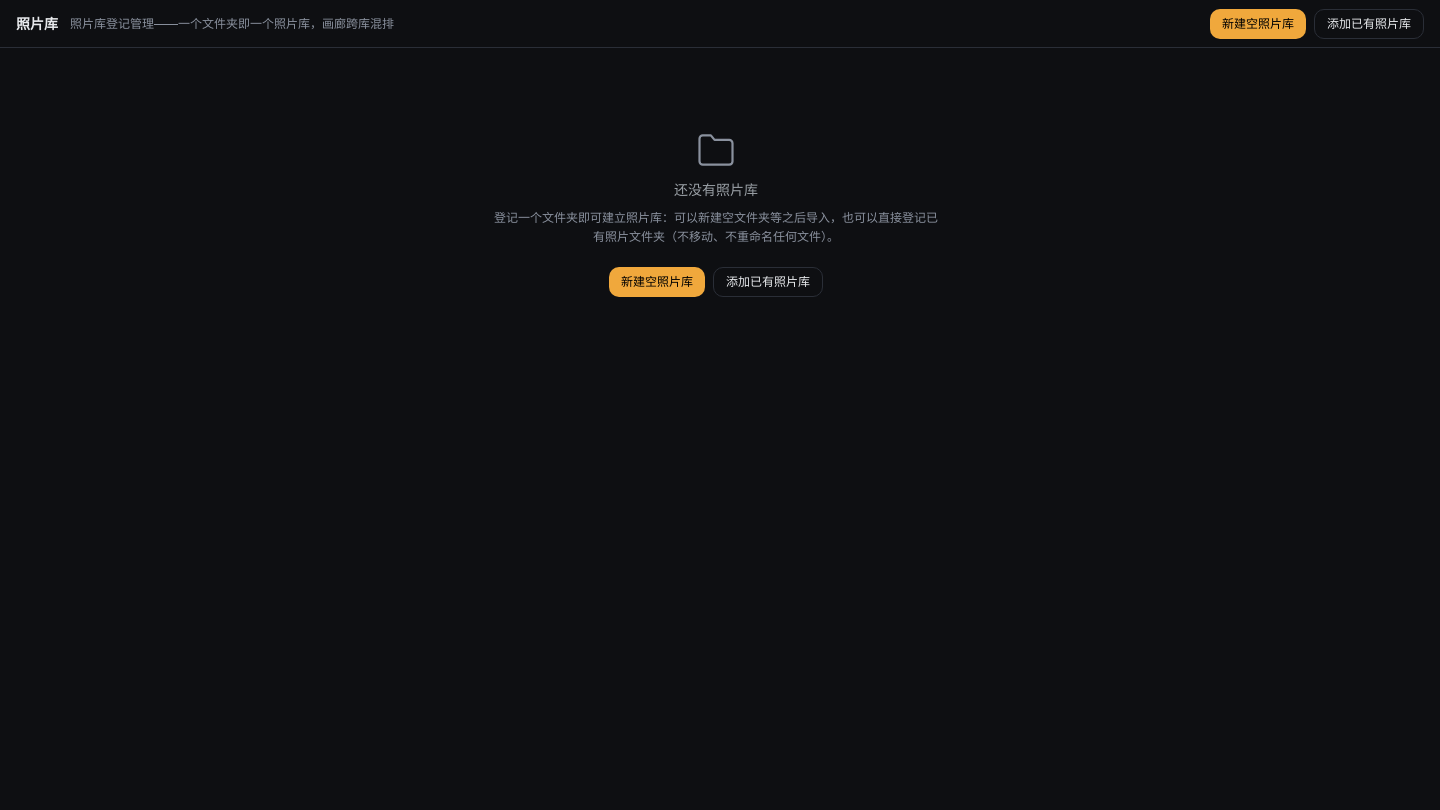
StoragePage 登记入口（photo_library_create，单一按钮 + 对话框内模式二选一） › 新建照片库：默认新建模式 → photoLibraryCreate(name, root, false) → 刷新列表
Expected: the element with test id "storage-empty" is shown, [494,128,938,296]
Click the button with test id "storage-create-library" at (1258, 24), box [1210,8,1306,38]
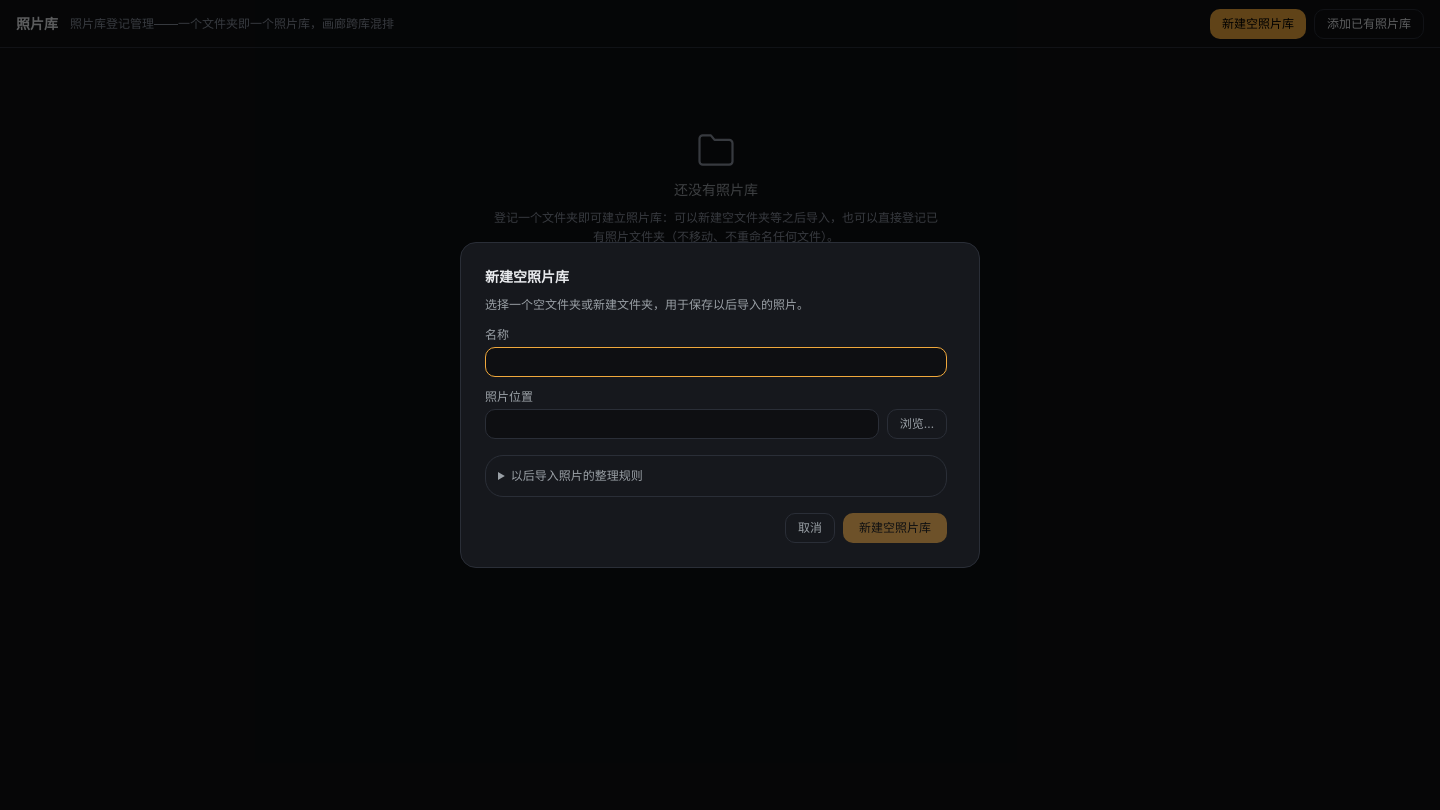
Expected: the dialog with test id "storage-create-dialog" is shown
Type "主照片库" into the field with test id "storage-create-name" at (716, 362), box [485,347,947,377]
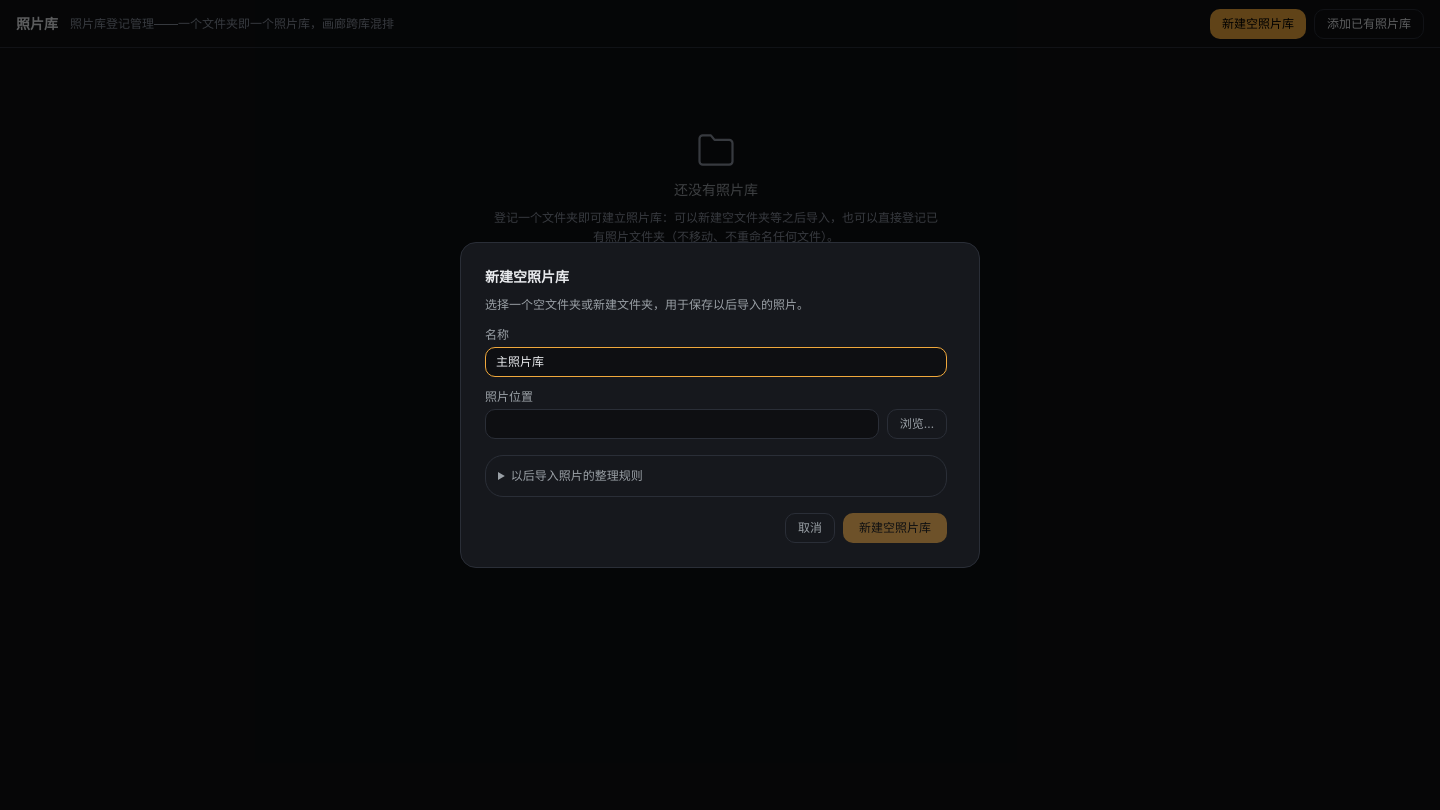
Type "I:\\Photos" into the field with test id "storage-create-root" at (682, 424), box [485,409,879,439]
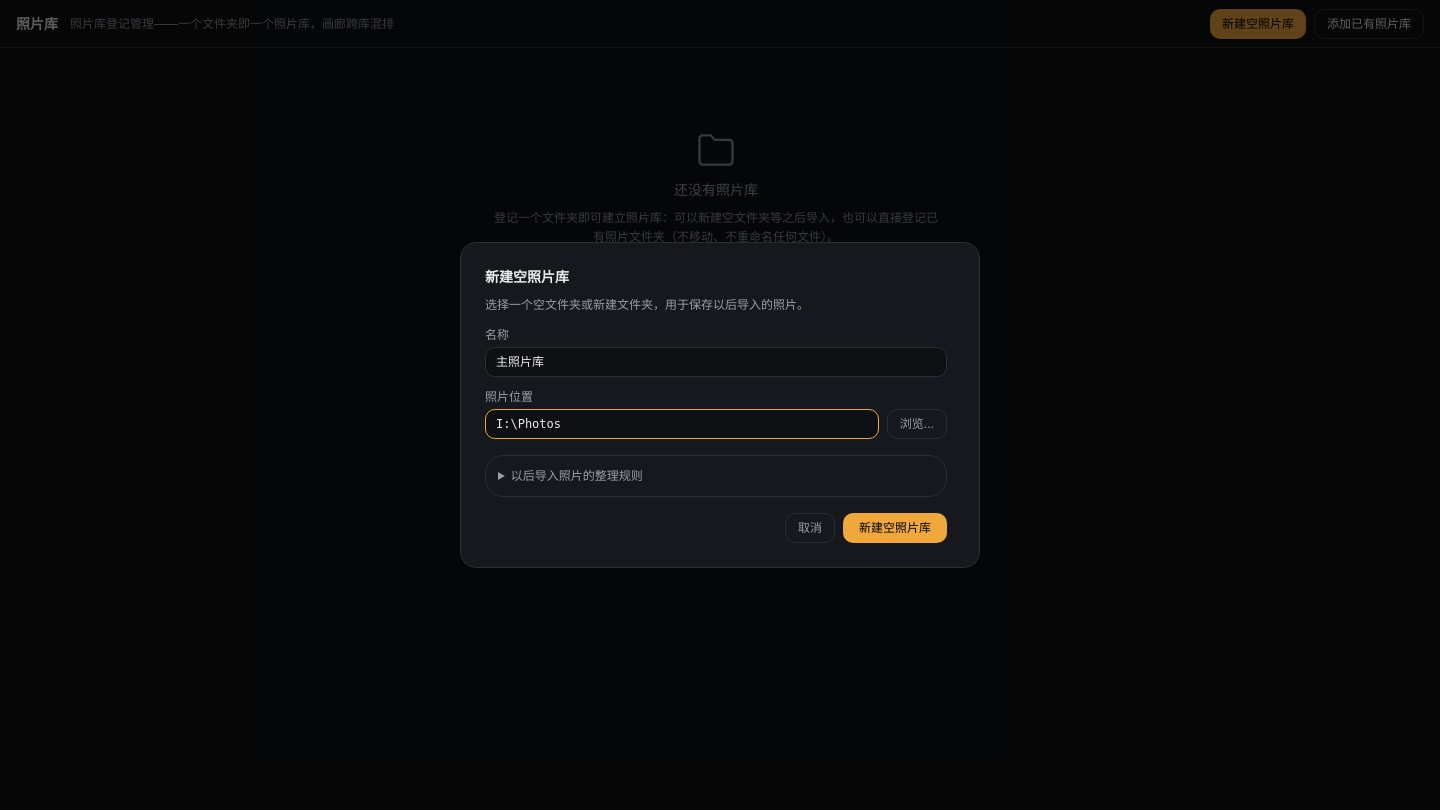
Click the button with test id "storage-create-confirm" at (895, 528), box [843,513,947,543]
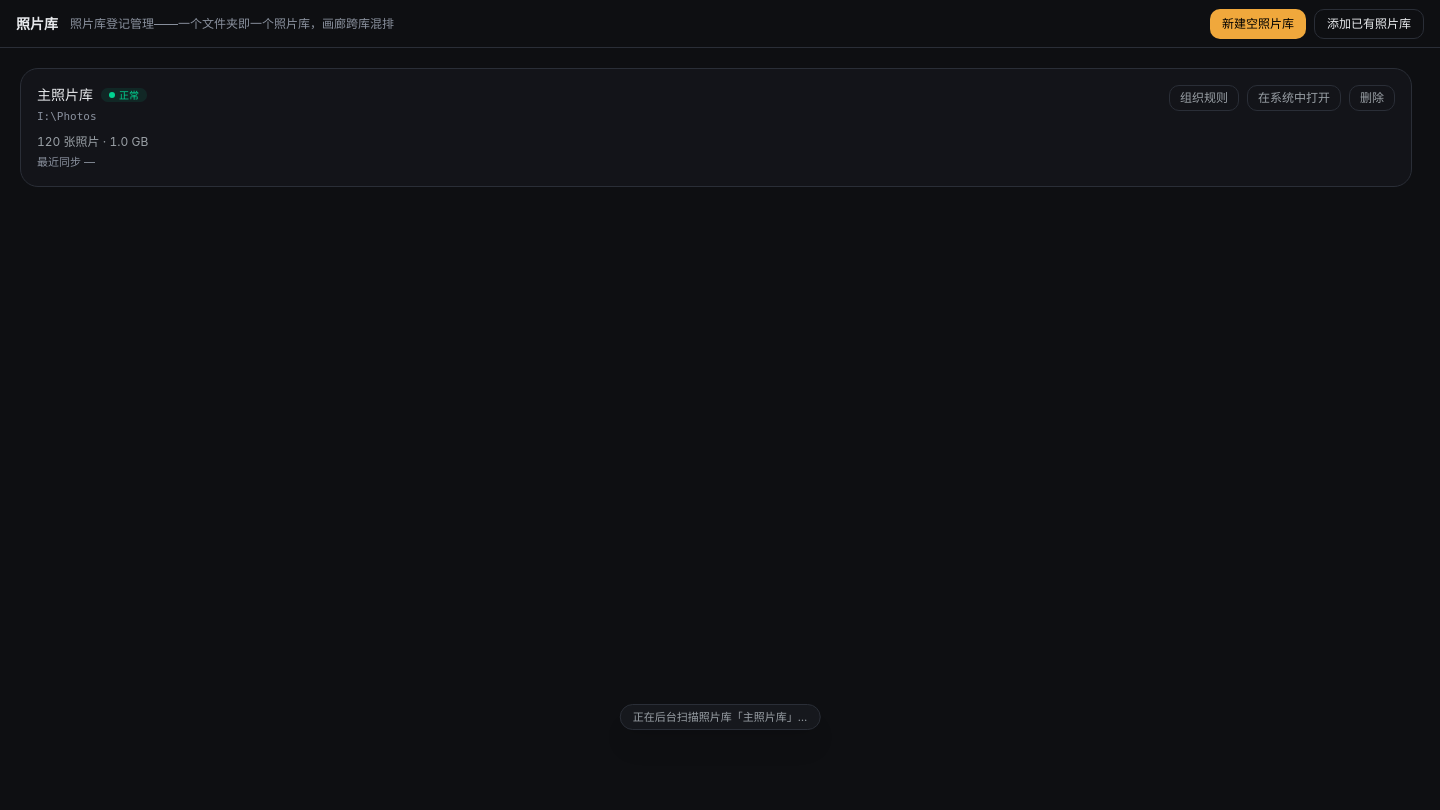
Expected: the heading "主照片库" is shown, [37,85,93,105]
Expected: the dialog with test id "storage-create-dialog" is gone
Expected: the message with test id "storage-toast" shows "主照片库", [633,710,807,724]
